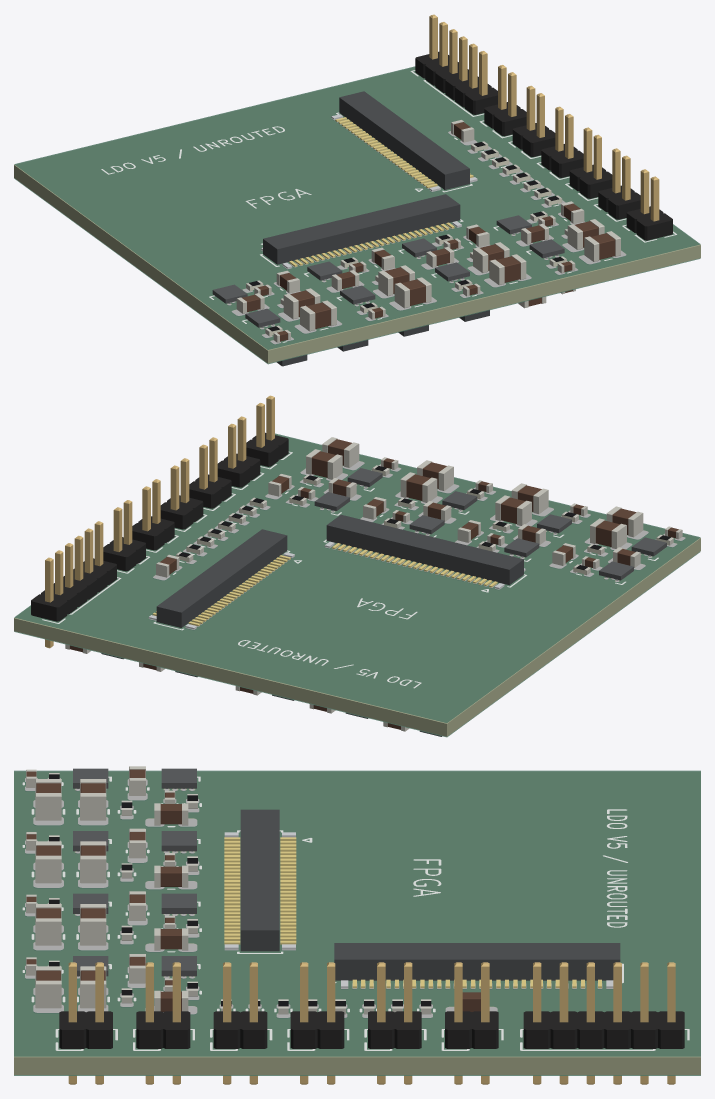
The model's file is LDO_V5_Interactive.glb.
3 views of the same model, one above another, from view 1: azimuth 30°, elevation 25°; view 2: azimuth 150°, elevation 25°; view 3: azimuth 270°, elevation 25° (orthographic). The views are drawn at different scales.
Parts seen in each view (by area): view 1: ASIC_LDO_Separate_V5_PCB, ASIC_LDO_Separate_V5_soldermask (×2), J2, J1, J91, ASIC_LDO_Separate_V5_pad, J402, ASIC_LDO_Separate_V5_silkscreen, J202, J90, J302, J10 (+9 smaller); view 2: ASIC_LDO_Separate_V5_PCB, ASIC_LDO_Separate_V5_soldermask (×2), J2, J1, J91, ASIC_LDO_Separate_V5_pad, ASIC_LDO_Separate_V5_silkscreen, J102, J10, J302, J402, J90 (+9 smaller); view 3: ASIC_LDO_Separate_V5_PCB, ASIC_LDO_Separate_V5_soldermask (×2), J1, J2, J91, ASIC_LDO_Separate_V5_pad, ASIC_LDO_Separate_V5_silkscreen, J302, J102, J202, J10, J402 (+22 smaller).
Part boxes in pixels (x1=…): ASIC_LDO_Separate_V5_PCB: x1=14, y1=68, x2=700, y2=363; ASIC_LDO_Separate_V5_soldermask (×2): x1=14, y1=66, x2=700, y2=364; J2: x1=261, y1=194, x2=461, y2=268; J1: x1=331, y1=91, x2=477, y2=191; J91: x1=415, y1=14, x2=497, y2=114; ASIC_LDO_Separate_V5_pad: x1=227, y1=118, x2=626, y2=344; J402: x1=626, y1=169, x2=672, y2=240; ASIC_LDO_Separate_V5_silkscreen: x1=101, y1=70, x2=676, y2=342; J202: x1=569, y1=127, x2=612, y2=198; J90: x1=512, y1=85, x2=555, y2=156; J302: x1=598, y1=148, x2=640, y2=219; J10: x1=484, y1=65, x2=526, y2=136; ASIC_LDO_Separate_V5_PCB: x1=14, y1=435, x2=700, y2=736; ASIC_LDO_Separate_V5_soldermask (×2): x1=14, y1=433, x2=700, y2=737; J2: x1=324, y1=514, x2=525, y2=589; J1: x1=148, y1=529, x2=294, y2=629; J91: x1=31, y1=521, x2=116, y2=648; ASIC_LDO_Separate_V5_pad: x1=149, y1=461, x2=685, y2=629; ASIC_LDO_Separate_V5_silkscreen: x1=42, y1=451, x2=658, y2=688; J102: x1=160, y1=458, x2=203, y2=529; J10: x1=103, y1=500, x2=145, y2=571; J302: x1=217, y1=416, x2=260, y2=487; J402: x1=246, y1=395, x2=288, y2=466; J90: x1=132, y1=479, x2=174, y2=550; ASIC_LDO_Separate_V5_PCB: x1=14, y1=772, x2=700, y2=1074; ASIC_LDO_Separate_V5_soldermask (×2): x1=14, y1=770, x2=700, y2=1075; J1: x1=334, y1=943, x2=620, y2=988; J2: x1=224, y1=809, x2=296, y2=951; J91: x1=523, y1=962, x2=684, y2=1084; ASIC_LDO_Separate_V5_pad: x1=25, y1=778, x2=613, y2=1018; ASIC_LDO_Separate_V5_silkscreen: x1=22, y1=776, x2=689, y2=1050; J302: x1=136, y1=962, x2=190, y2=1084; J102: x1=290, y1=962, x2=344, y2=1084; J202: x1=213, y1=962, x2=267, y2=1084; J10: x1=445, y1=962, x2=498, y2=1084; J402: x1=59, y1=962, x2=112, y2=1084.
Size of the model in its own units: 0.032 by 0.0063 by 0.0325.
